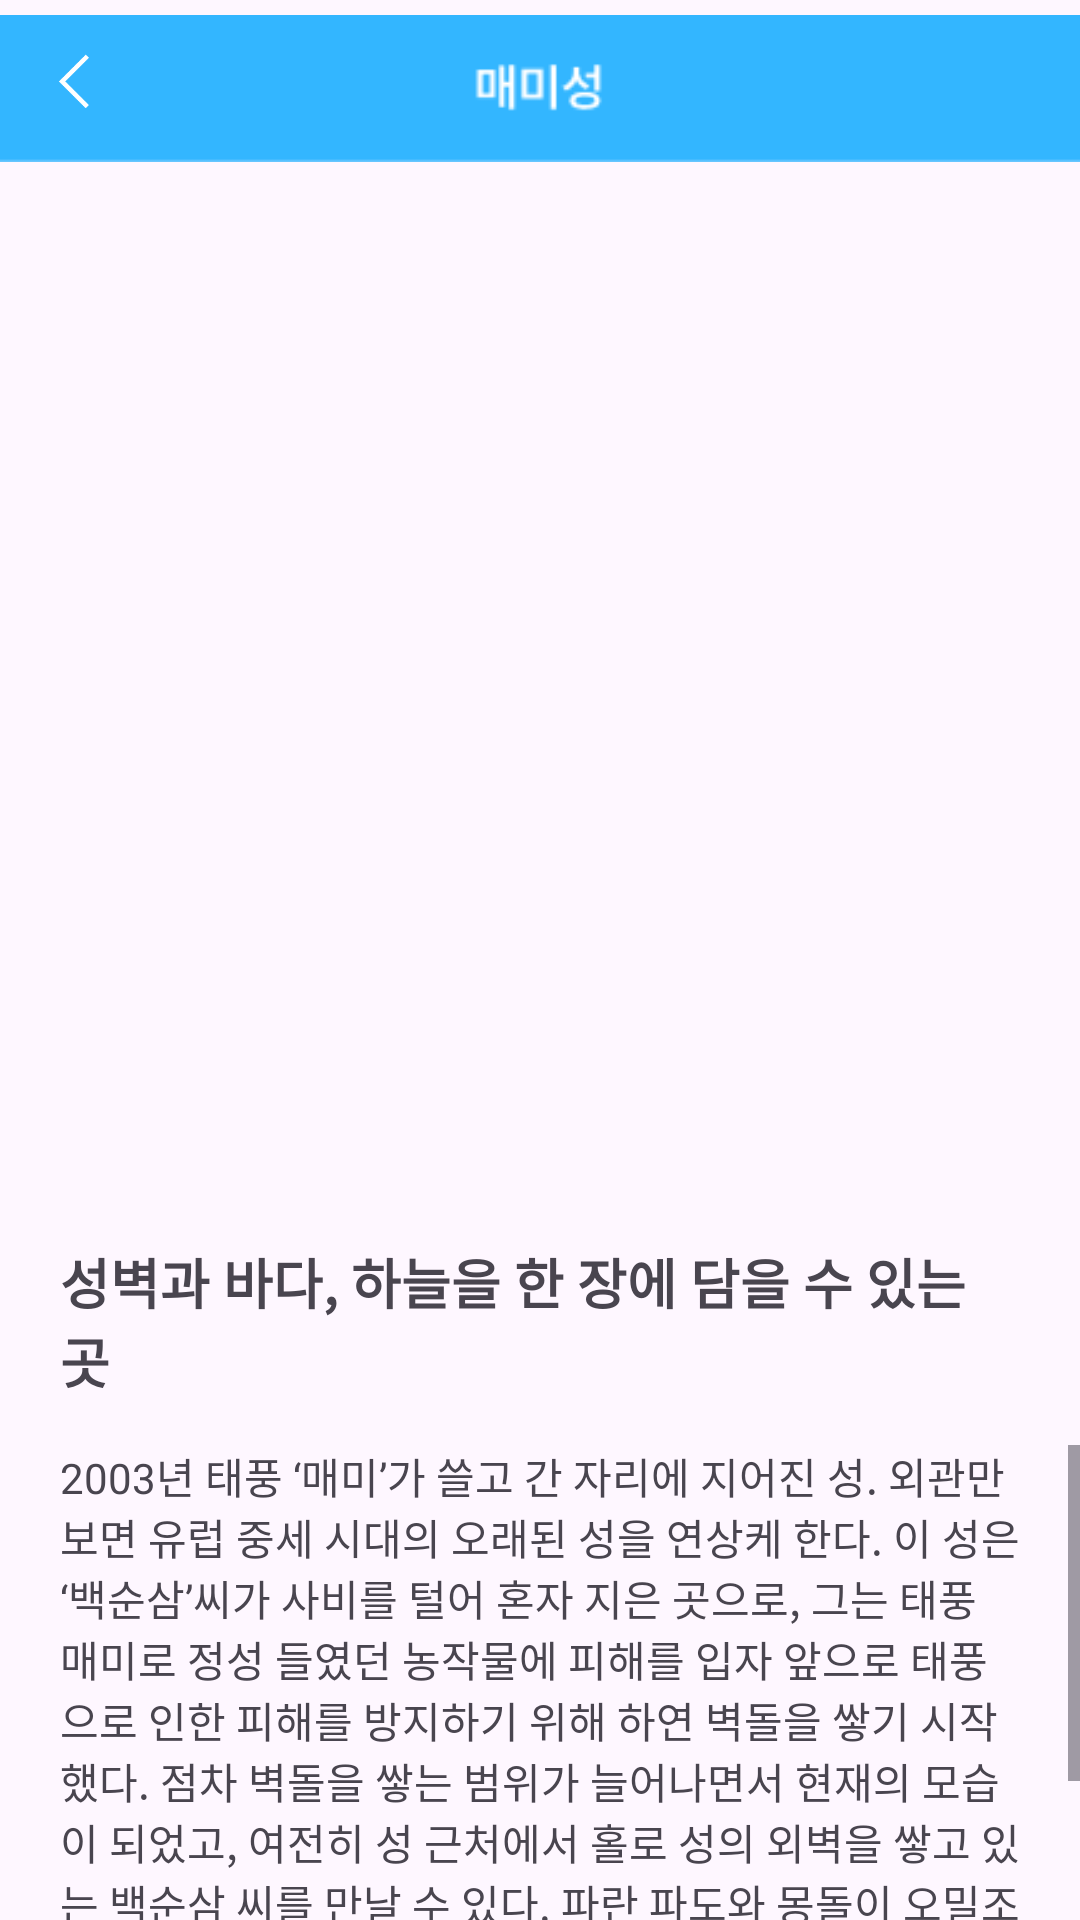

Named icons in this screenshot (1080*1920) and their centers, (x=x, y=y):
back: (x=74, y=81)
